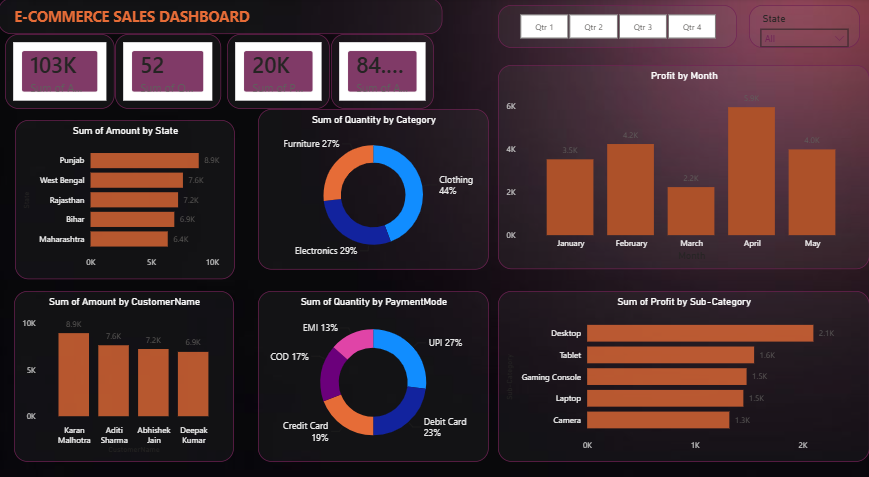

The dashboard page shown, as its layout file describes it:
{"tool":"powerbi","page":{"name":"Page 1","canvas":[1280,720],"ordinal":0},"visuals":[{"type":"textbox","box":[0,0,652.9,52.9],"z":0},{"type":"columnChart","title":" Profit by Month","fields":{"Y":["Sum(DETAILS.Profit)"],"Category":["ORDERS.Order Date.Variation.Date Hierarchy.Month"]},"box":[734.3,98.6,545.7,300],"z":1000},{"type":"barChart","fields":{"Category":["DETAILS.Sub-Category"],"Y":["Sum(DETAILS.Profit)"]},"box":[734.3,430,545.7,251.4],"z":2000},{"type":"donutChart","fields":{"Category":["DETAILS.Category"],"Y":["Sum(DETAILS.Quantity)"]},"box":[381.4,162.9,338.6,235.7],"z":3000},{"type":"donutChart","fields":{"Category":["DETAILS.PaymentMode"],"Y":["Sum(DETAILS.Quantity)"]},"box":[381.4,430,338.6,251.4],"z":4000},{"type":"cardVisual","fields":{"Data":["Sum(DETAILS.Amount)"]},"box":[10,52.9,161.4,110],"z":5000},{"type":"cardVisual","fields":{"Data":["Sum(DETAILS.Quantity)"]},"box":[171.4,52.9,155.7,110],"z":6000},{"type":"cardVisual","fields":{"Data":["Sum(DETAILS.Profit)"]},"box":[337.1,52.9,151.4,110],"z":7000},{"type":"cardVisual","fields":{"Data":["Sum(DETAILS.AOV)"]},"box":[488.6,52.9,151.4,110],"z":8000},{"type":"barChart","fields":{"Category":["ORDERS.State"],"Y":["Sum(DETAILS.Amount)"]},"box":[24.3,178.6,322.9,234.3],"z":9000},{"type":"columnChart","fields":{"Category":["ORDERS.CustomerName"],"Y":["Sum(DETAILS.Amount)"]},"box":[24,430,323,251],"z":10000},{"type":"slicer","fields":{"Values":["ORDERS.Order Date.Variation.Date Hierarchy.Quarter"]},"box":[734.3,10,351.4,62.9],"z":11000},{"type":"slicer","fields":{"Values":["ORDERS.State"]},"box":[1102.9,10,162.9,62.9],"z":12000}]}

Visuals, with their boxes in screenshot pixels (x1, y1, x2, y2), scaled from the page's 1280x720 canvas onto the 869x477 screenshot:
textbox: crop(0, 0, 443, 35)
" Profit by Month" columnChart: crop(499, 65, 868, 264)
barChart - DETAILS.Sub-Category x Sum(DETAILS.Profit): crop(499, 285, 868, 451)
donutChart - DETAILS.Category x Sum(DETAILS.Quantity): crop(259, 108, 489, 264)
donutChart - DETAILS.PaymentMode x Sum(DETAILS.Quantity): crop(259, 285, 489, 451)
cardVisual - Sum(DETAILS.Amount): crop(7, 35, 116, 108)
cardVisual - Sum(DETAILS.Quantity): crop(116, 35, 222, 108)
cardVisual - Sum(DETAILS.Profit): crop(229, 35, 332, 108)
cardVisual - Sum(DETAILS.AOV): crop(332, 35, 434, 108)
barChart - ORDERS.State x Sum(DETAILS.Amount): crop(16, 118, 236, 274)
columnChart - ORDERS.CustomerName x Sum(DETAILS.Amount): crop(16, 285, 236, 451)
slicer - ORDERS.Order Date.Variation.Date Hierarchy.Quarter: crop(499, 7, 737, 48)
slicer - ORDERS.State: crop(749, 7, 859, 48)
